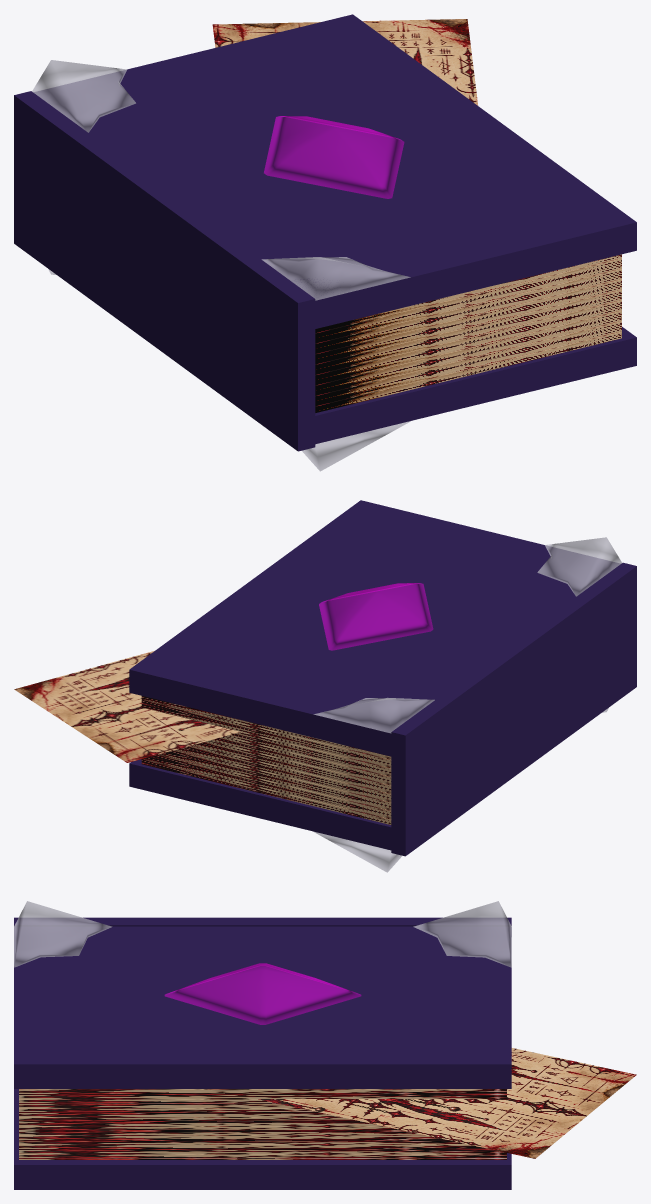
The model's file is grimorio.glb.
The picture shows the model from 3 angles, top to bottom: view 1: azimuth 30°, elevation 25°; view 2: azimuth 150°, elevation 25°; view 3: azimuth 270°, elevation 25°; orthographic projection. The views are drawn at different scales.
Parts seen in each view (by area): view 1: Cube.002, Cube, Cone.002, Cone.001, Plane; view 2: Cube.002, Cube, Plane, Cone.002, Cone.001; view 3: Cube.002, Cube, Plane, Cone.002, Cone.001.
Boxes of the visible parts, left/top/right/bottom form: Cube.002: left=14, top=14, right=636, bottom=451; Cube: left=315, top=254, right=621, bottom=412; Cone.002: left=32, top=60, right=410, bottom=471; Cone.001: left=264, top=116, right=404, bottom=198; Plane: left=212, top=19, right=478, bottom=105; Cube.002: left=129, top=500, right=636, bottom=856; Cube: left=141, top=696, right=391, bottom=824; Plane: left=14, top=651, right=240, bottom=762; Cone.002: left=313, top=537, right=621, bottom=872; Cone.001: left=319, top=583, right=433, bottom=650; Cube.002: left=14, top=917, right=511, bottom=1189; Cube: left=19, top=1089, right=506, bottom=1159; Plane: left=258, top=1048, right=636, bottom=1158; Cone.002: left=14, top=901, right=511, bottom=967; Cone.001: left=164, top=963, right=361, bottom=1024.
Size of the model in its own units: 1.9 by 0.8342 by 2.5.
5 materials, 2 textured.
